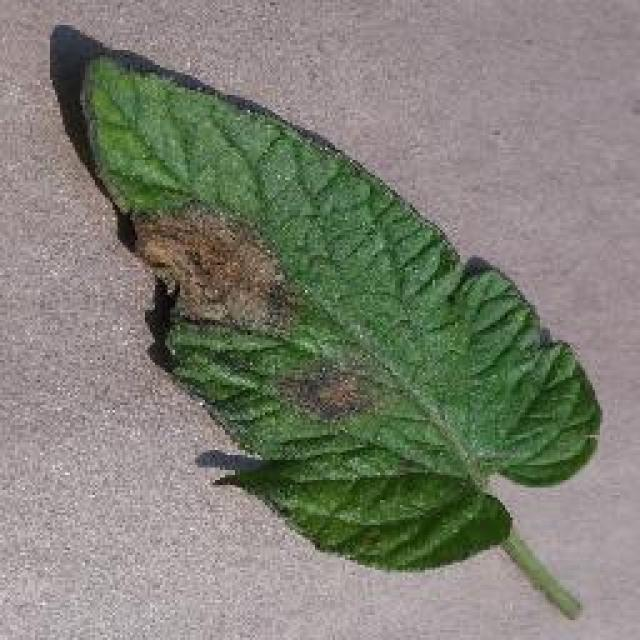leaf blight: (77, 54, 603, 624)
